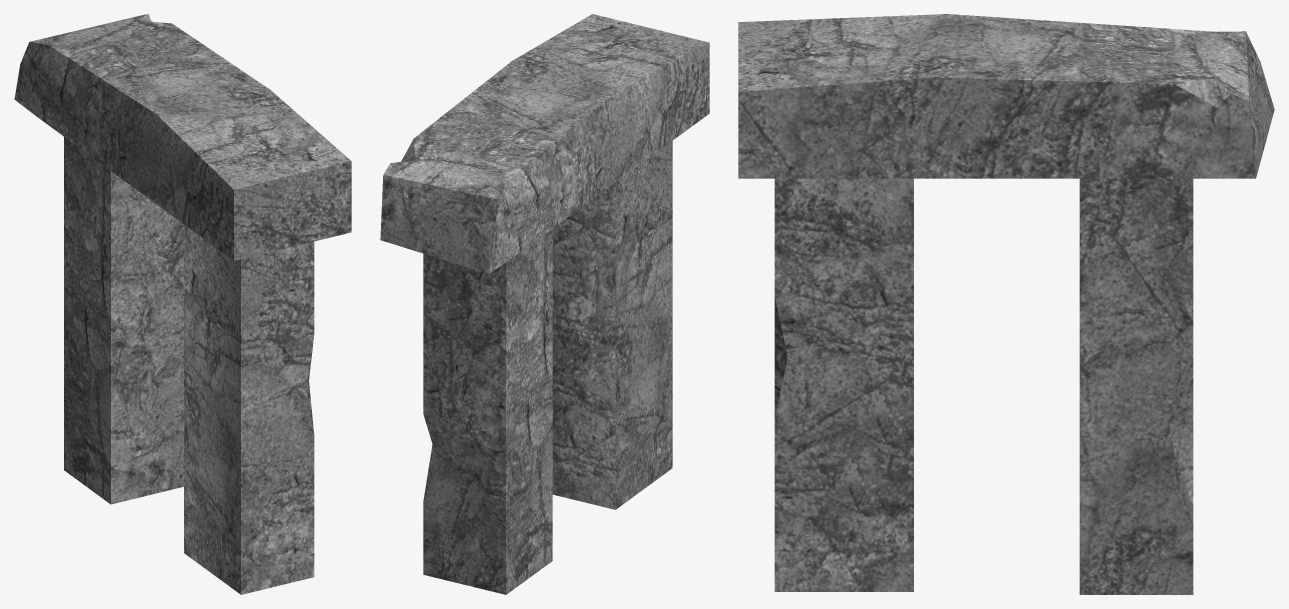
Rendered from materials_3_handrail_12.fbx.
3 views of the same model, side by side, from view 1: azimuth 30°, elevation 25°; view 2: azimuth 150°, elevation 25°; view 3: azimuth 270°, elevation 25° (orthographic). The views are drawn at different scales.
Visible parts, largest first — view 1: materials_3_handrail_12; view 2: materials_3_handrail_12; view 3: materials_3_handrail_12.
Part boxes in pixels (x1,y1,x2,y2): materials_3_handrail_12: (14,14,351,594); materials_3_handrail_12: (380,14,709,594); materials_3_handrail_12: (738,14,1274,594).
Size of the model in its own units: 22.18 by 78.14 by 71.98.
